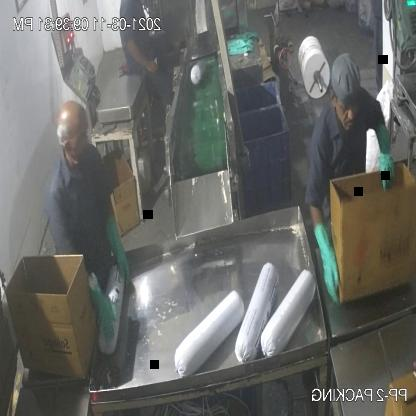glove: (310, 221, 347, 304), (103, 210, 130, 284)
no_glove: (121, 38, 161, 74)
